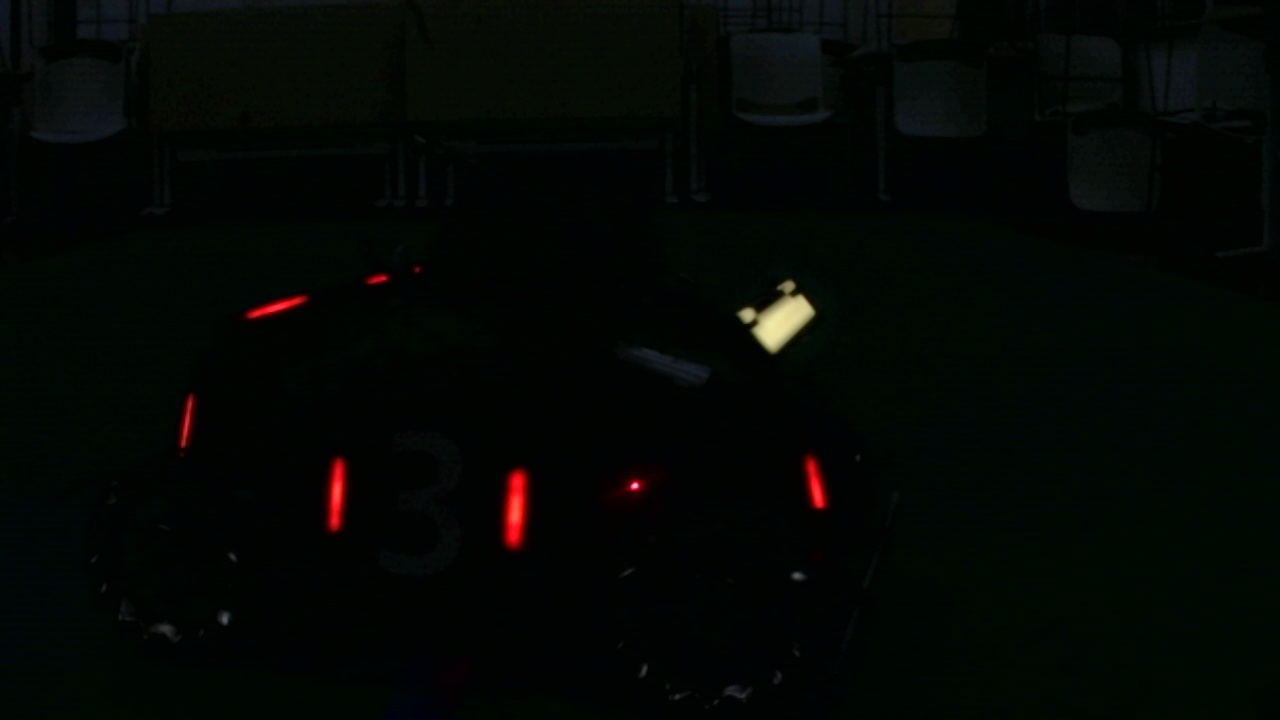lamp: (499, 457, 528, 553), (324, 451, 351, 530), (803, 454, 828, 509), (178, 391, 193, 449)
notpair1: (501, 457, 826, 554)
pair1: (330, 453, 527, 560)
